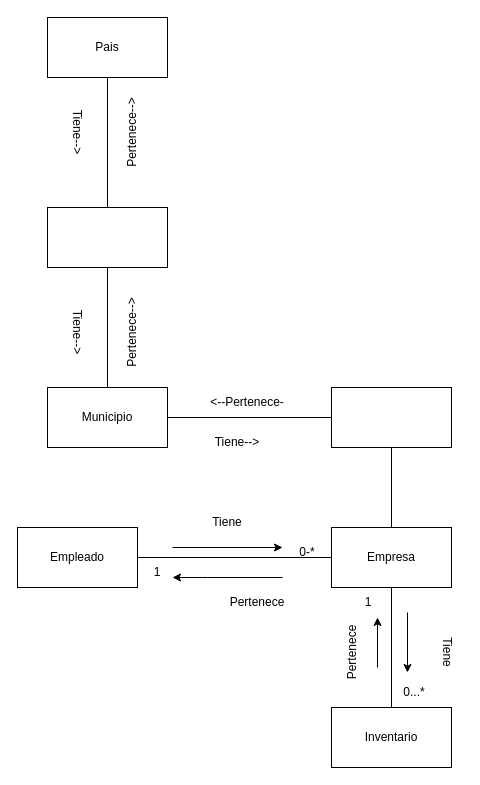
Image size: 480x785. Some labels were removed from this diagram. Each missing label, with the box of its shape:
Departamento: (46, 206, 168, 268)
Vereda: (330, 386, 452, 448)
